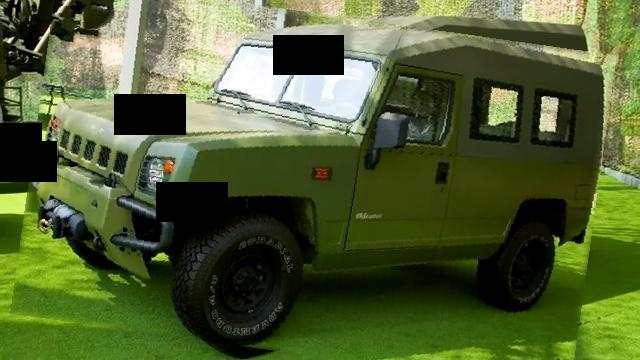MIL_HMMWV: (20, 0, 605, 360)
